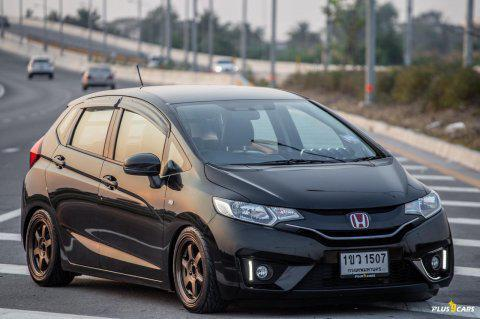Hatchback: (13, 79, 463, 314)
